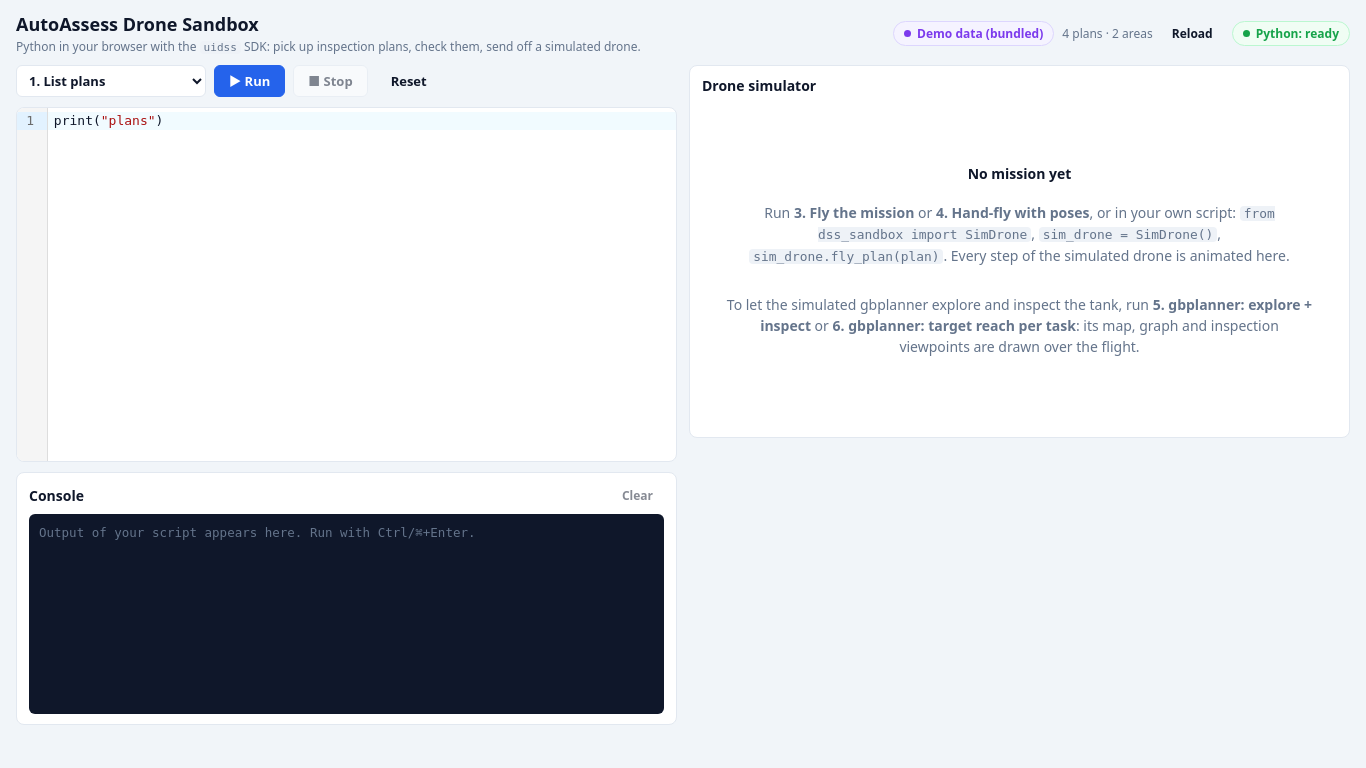
Test: SandboxPage › should run the selected example and show its output in the console
Click the button "▶ Run". click: (250, 81)
box: [214, 65, 285, 97]
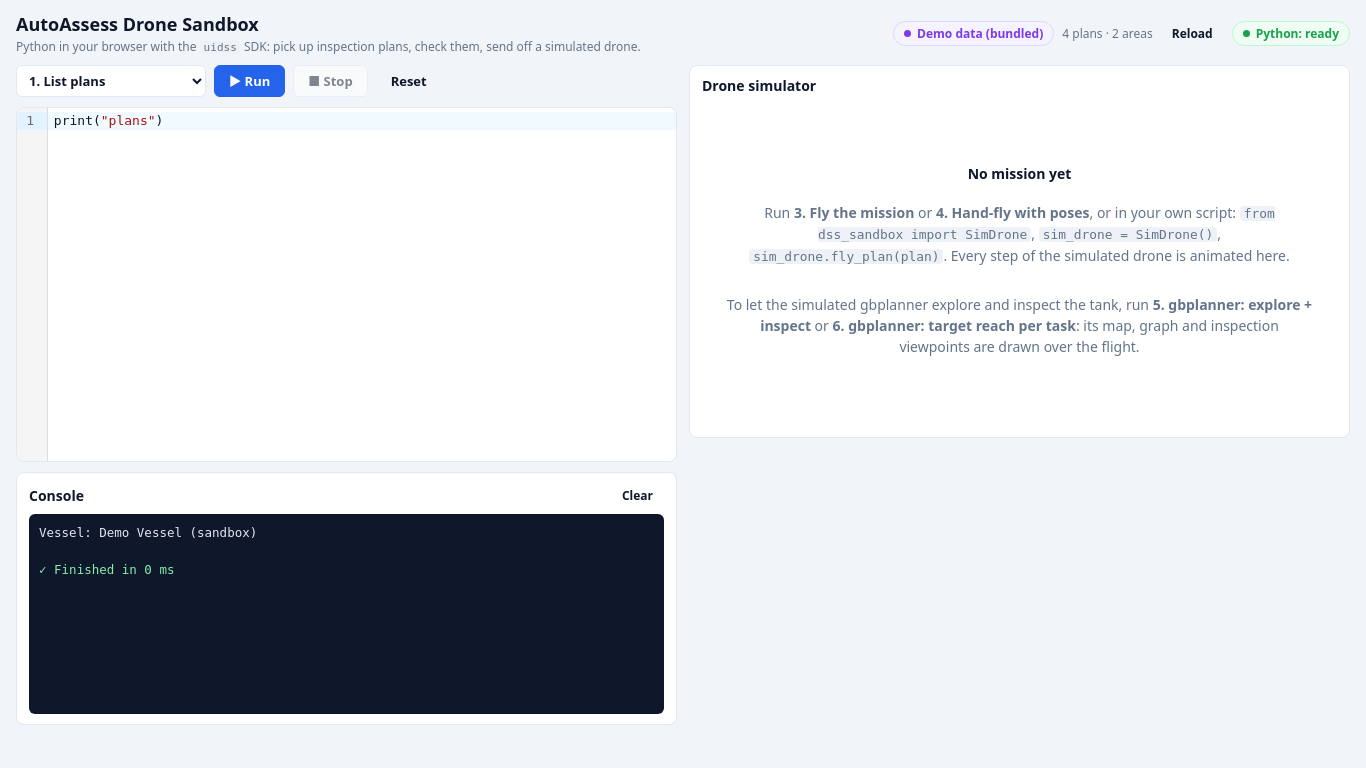
Result: the element with test id "console-output" shows "Vessel: Demo Vessel (sandbox)" at [39, 525, 257, 540]
